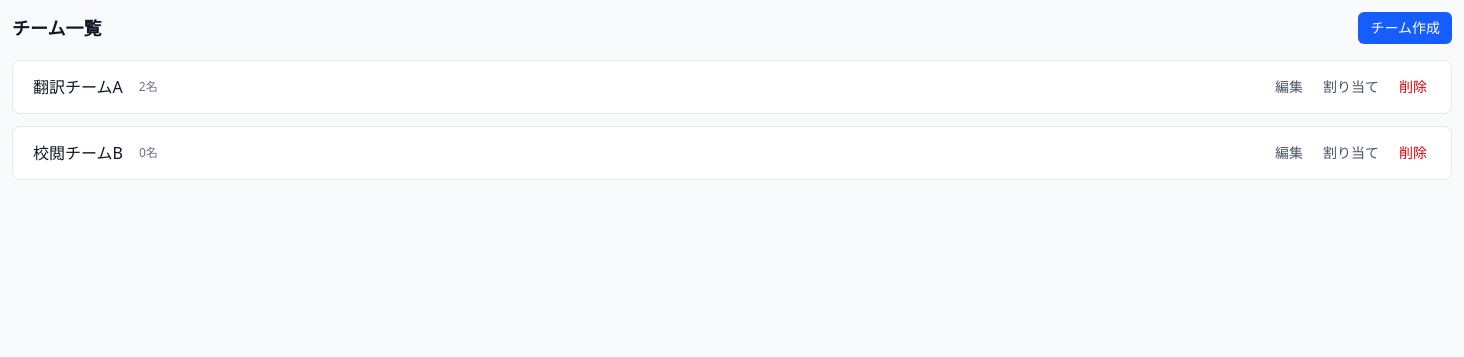
Test: TeamManagement › expands team to show members
This screenshot has width=1464, height=357.
Click the button "翻訳チームA".
click(78, 87)  # box [29,75,127,99]
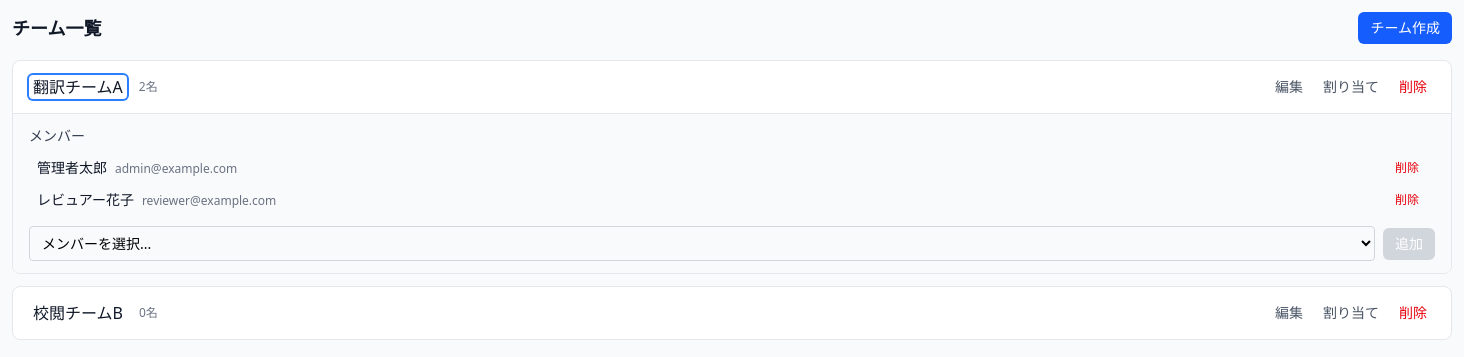
Expected: the text "管理者太郎" is shown, [37,158,107,177]
Expected: the text "レビュアー花子" is shown, [37,190,134,209]
